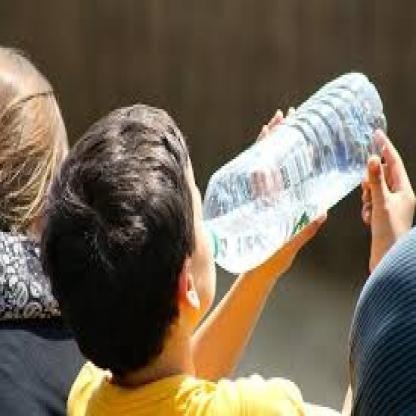trash: (204, 73, 385, 273)
